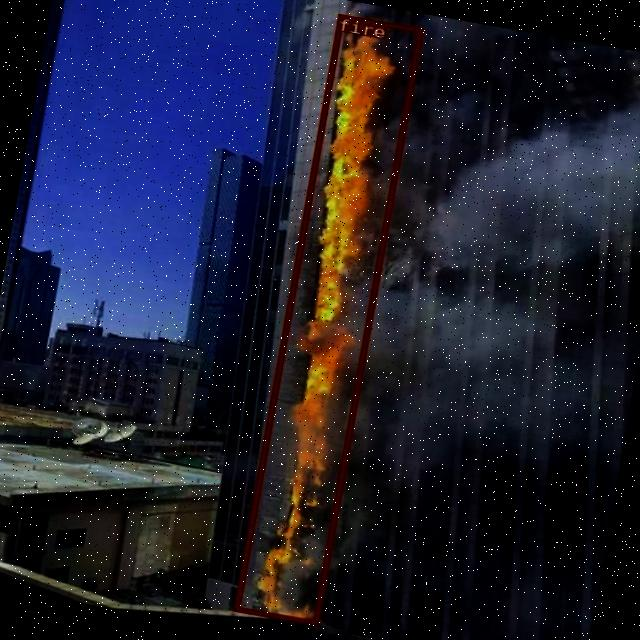fire: (233, 12, 422, 624)
